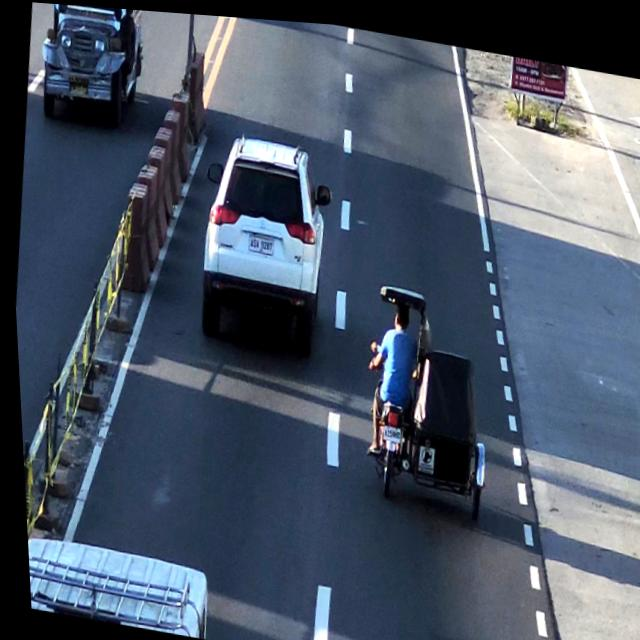Car: (186, 128, 332, 355)
License-Plate: (243, 228, 274, 251), (375, 415, 399, 438)
Tricycle: (355, 281, 489, 508)
